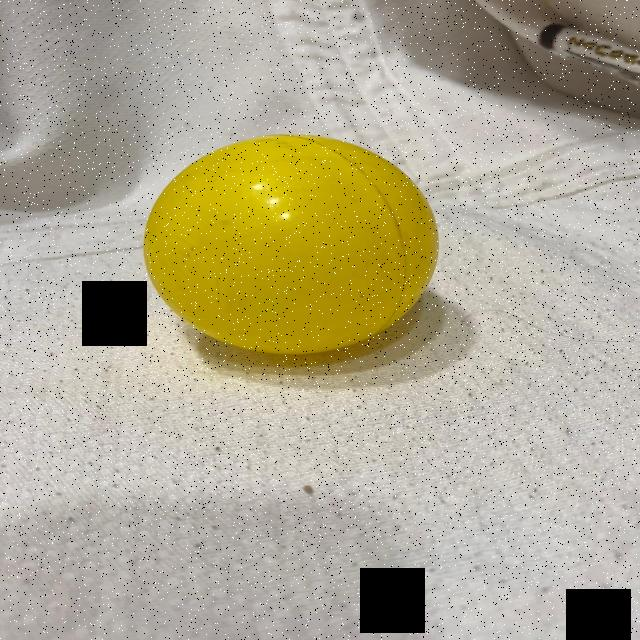ball: (144, 129, 440, 358)
